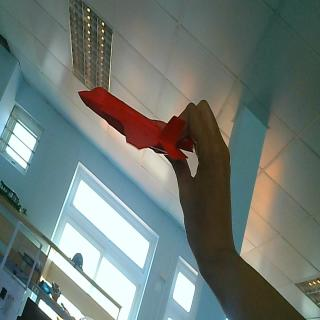Jet: (76, 84, 194, 161)
